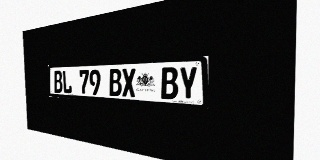7: (79, 70, 90, 95)
9: (89, 69, 101, 95)
B: (161, 67, 178, 100), (109, 69, 122, 96), (54, 71, 63, 93)
L: (62, 70, 72, 94)
X: (122, 68, 136, 97)
Y: (179, 66, 198, 101)
